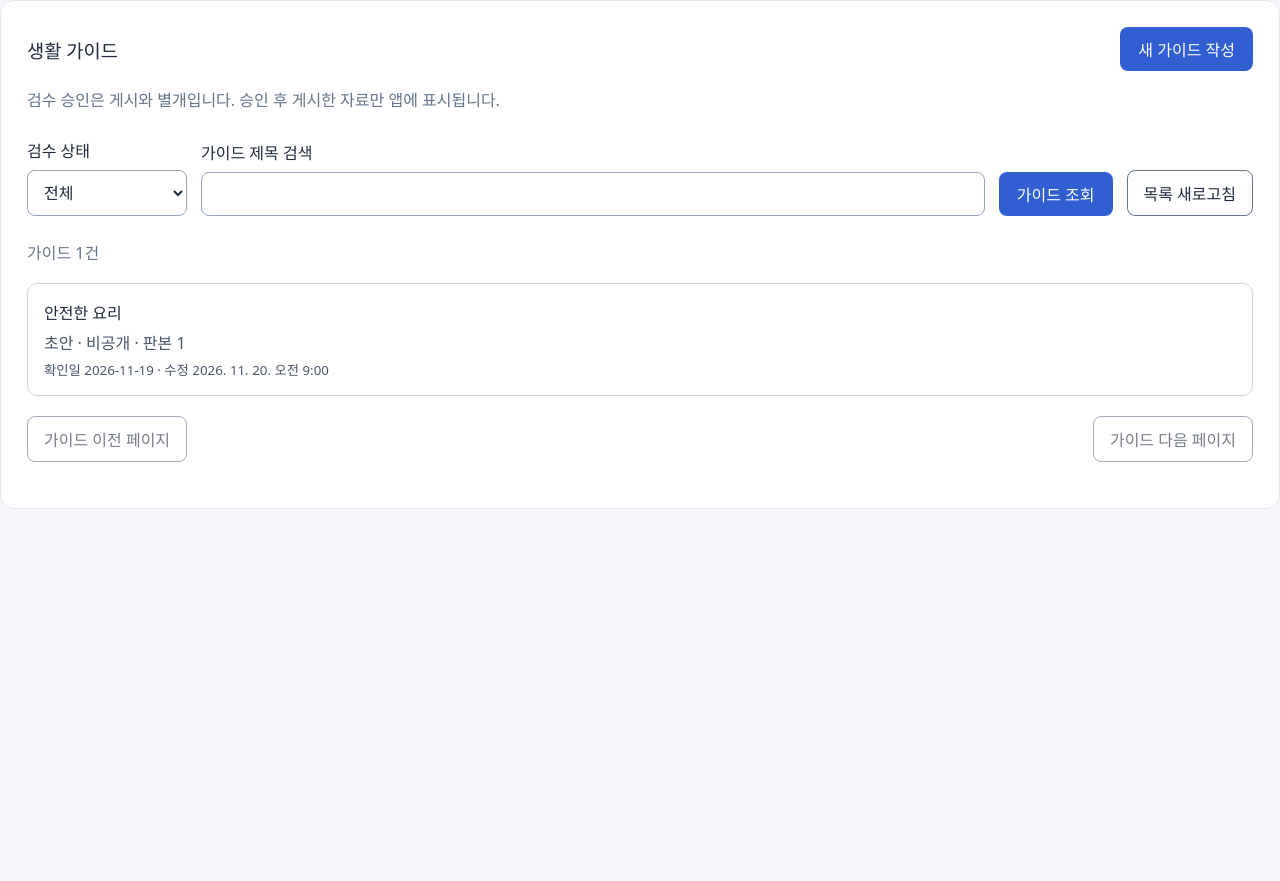
전송 결과가 불명확한 저장은 자동 재시도하지 않고 조회로 확인하도록 막는다
The image size is (1280, 881).
Click the button "안전한 요리". click: (83, 313)
box: left=27, top=283, right=1253, bottom=396
(page scrolled)
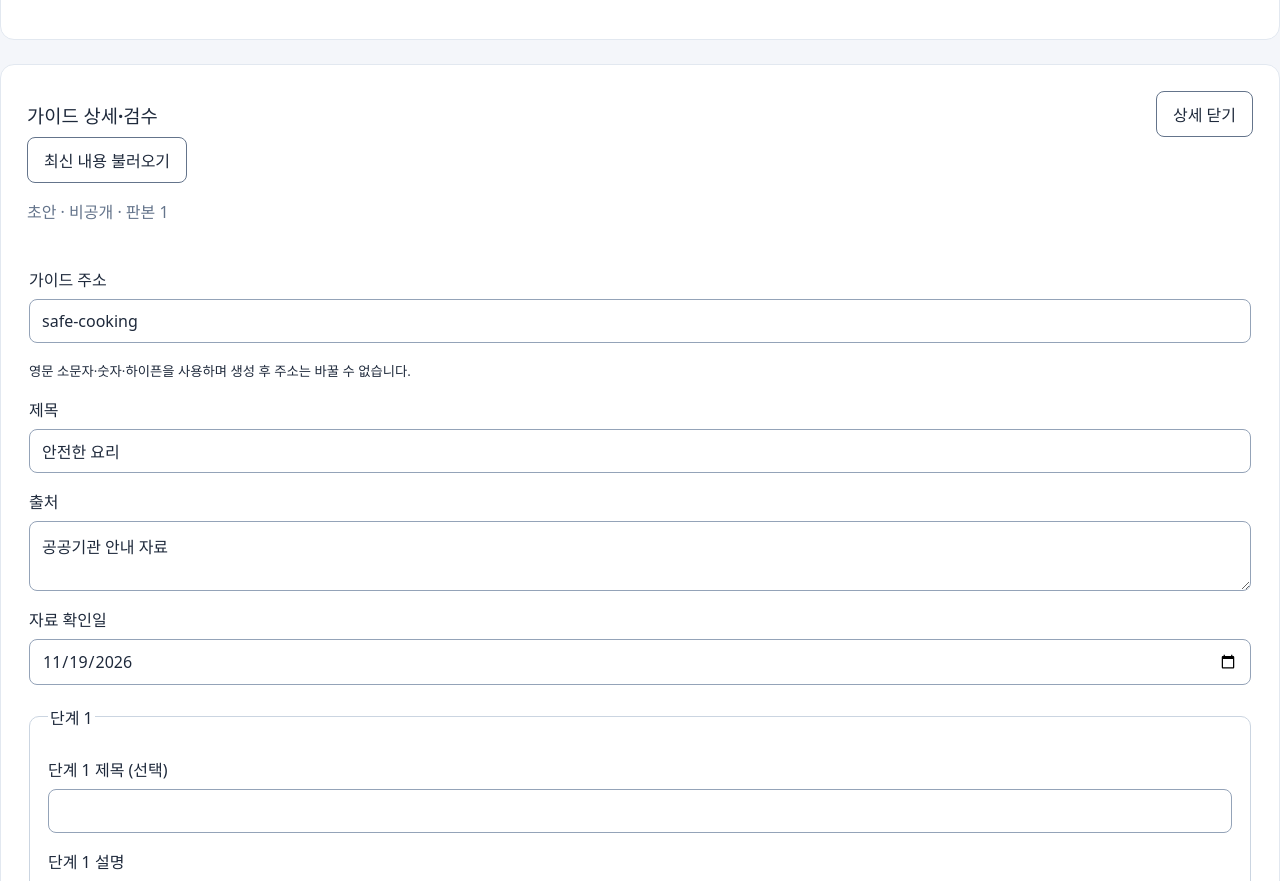
Expected: the field labelled "제목" is shown
Replace the text in the field labelled "제목" with "수정한 제목". click: (640, 451)
box: left=29, top=429, right=1251, bottom=473
(page scrolled)
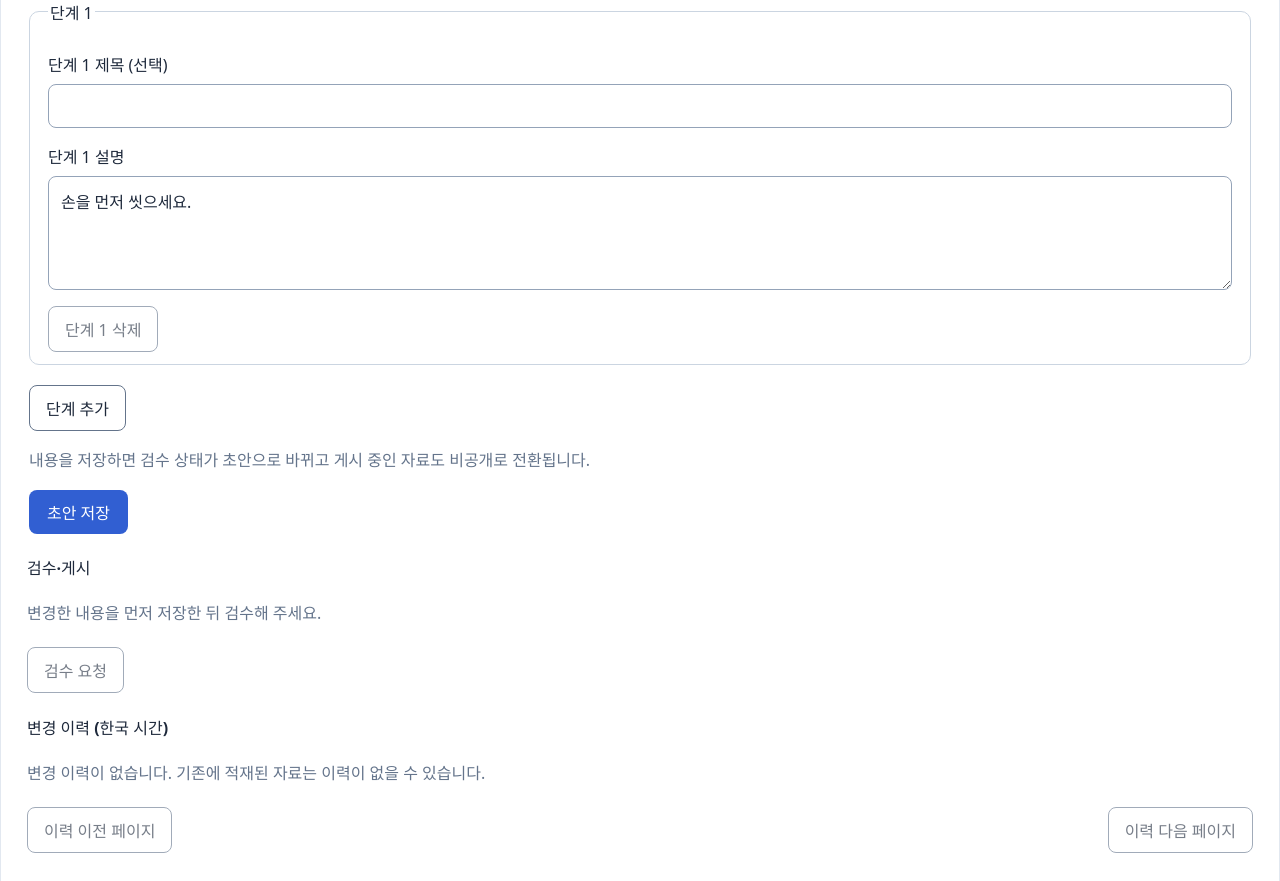
Click the button "초안 저장". click: (78, 512)
box: left=29, top=490, right=128, bottom=534
(page scrolled)
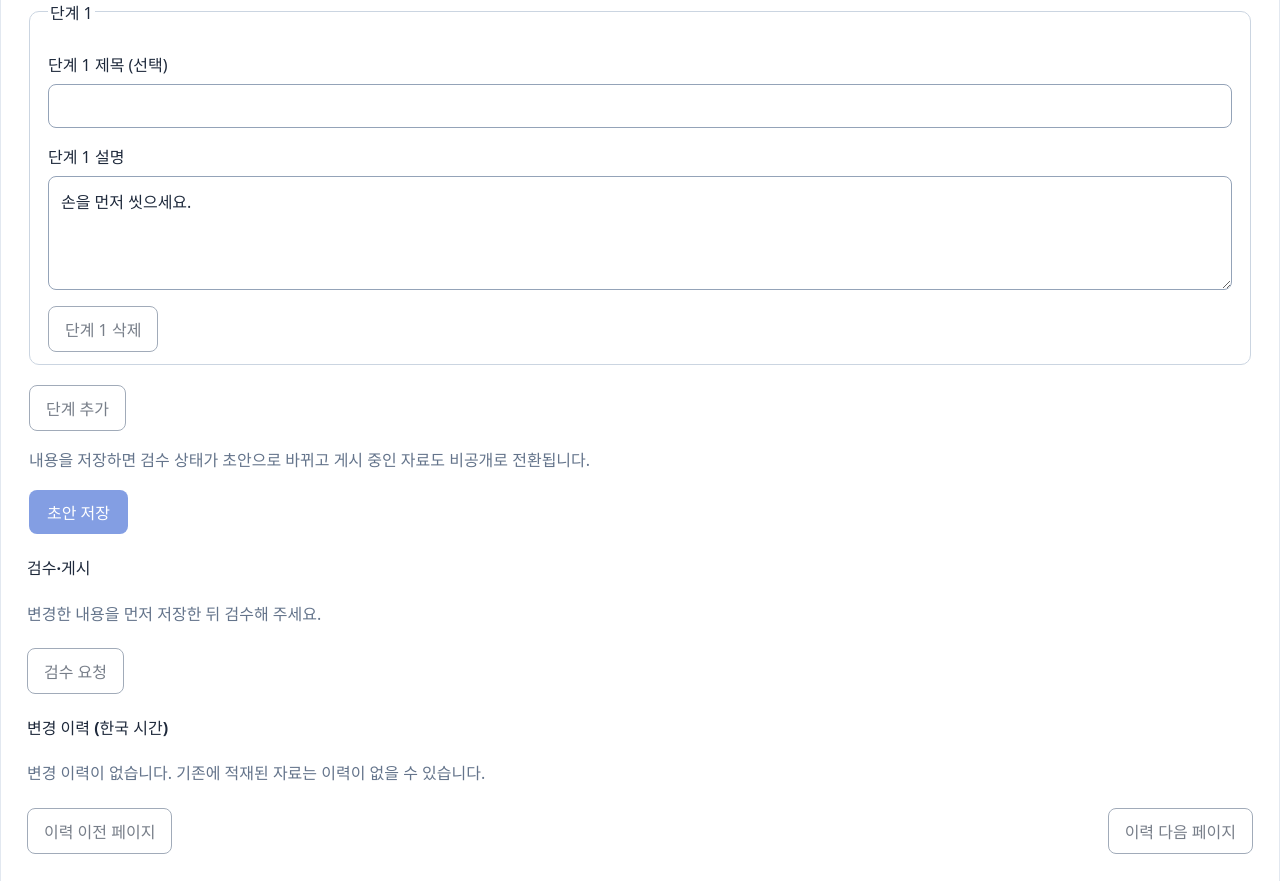
Expected: the button "초안 저장" is disabled, left=29, top=490, right=128, bottom=534
